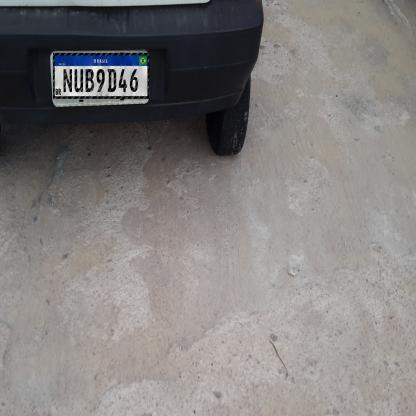PlacaM: (53, 53, 149, 99)
